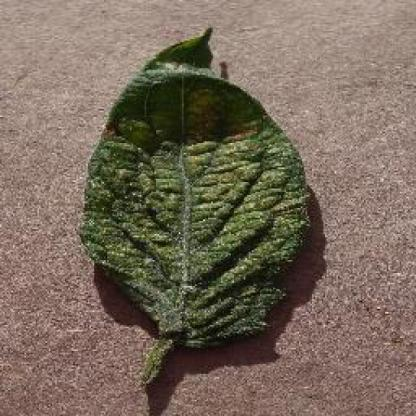Tomato_Spider_Mites: (79, 25, 306, 342)
